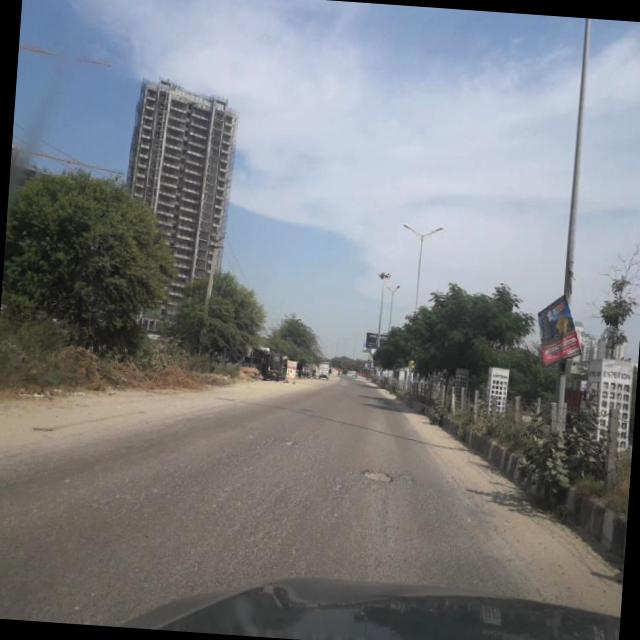crack: (0, 404, 526, 591)
pothole: (356, 464, 395, 484)
